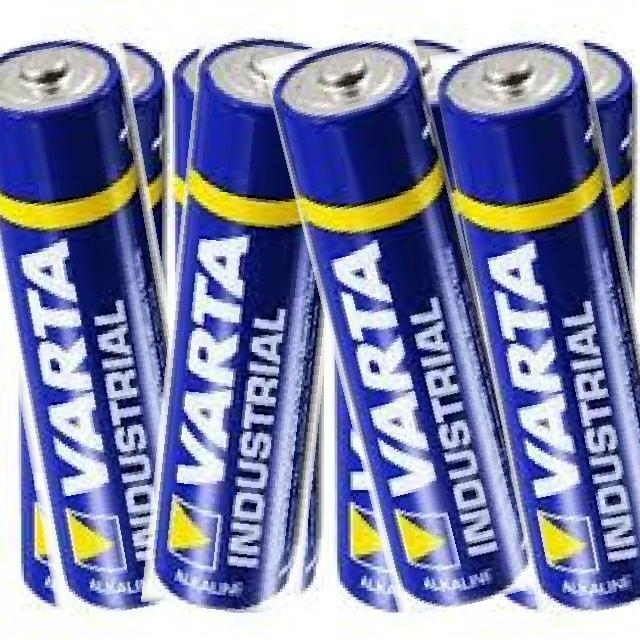Battery: (270, 42, 536, 614), (437, 41, 639, 614), (152, 26, 322, 612), (1, 38, 171, 616), (331, 362, 407, 613), (575, 29, 639, 291)
